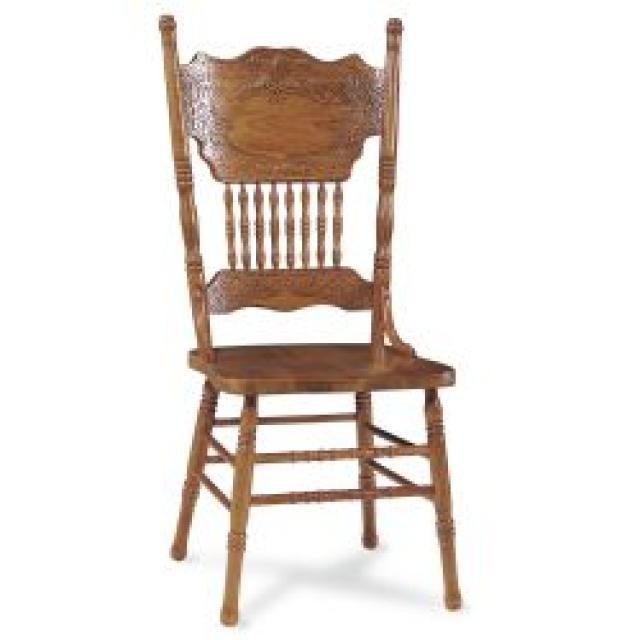chair: (156, 14, 466, 630)
